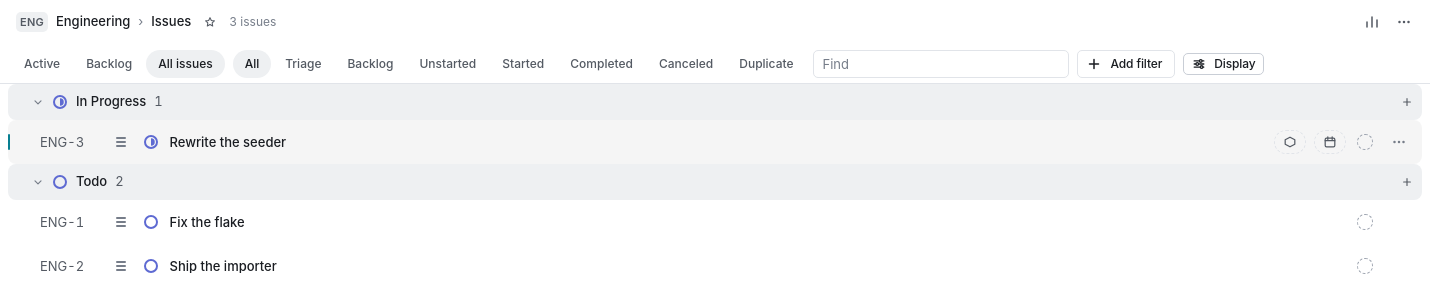
in-view find › filters the list from the find box by title
The image size is (1440, 291).
In the field named "Find in list": x=942, y=64 [822,50,1060,76], type "importer"
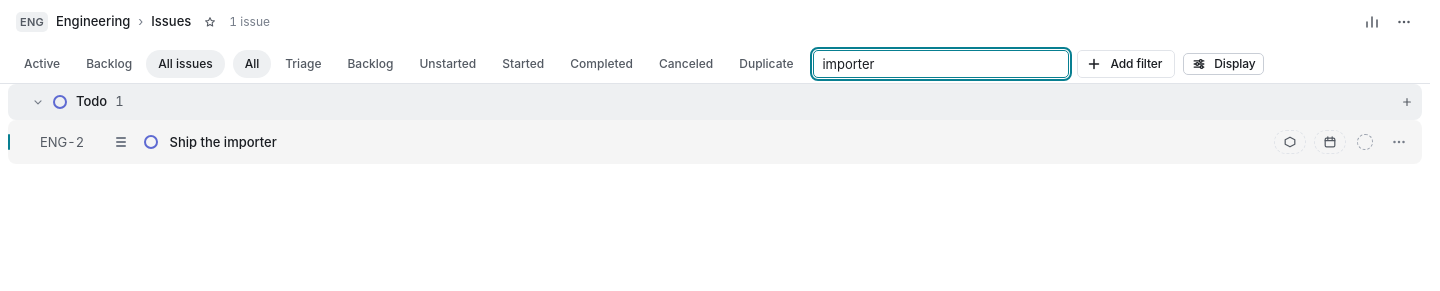
Expected: the text "Ship the importer" is shown, [170,134,277,150]
Expected: the text "Fix the flake" is gone
Expected: the text "Rewrite the seeder" is gone
